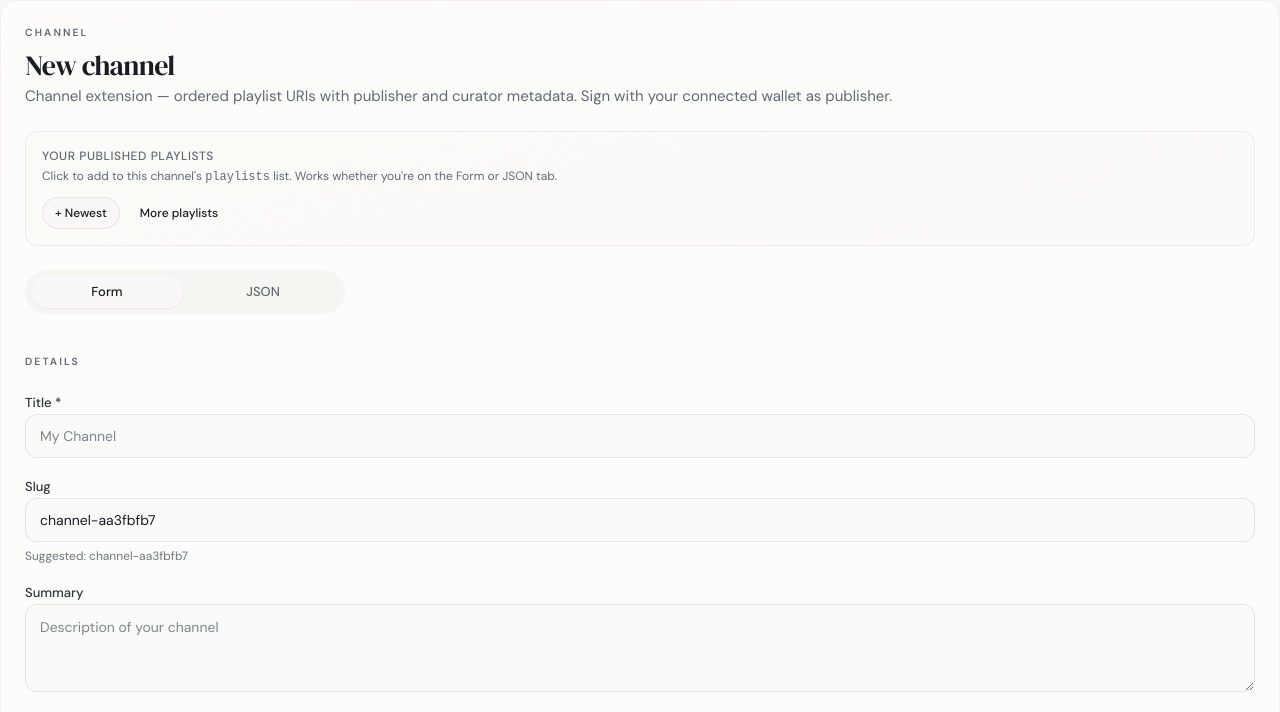
Test case: ChannelForm — publish flow › playlist picker pages through the feed with "More playlists"
The width and height of the screenshot is (1280, 712).
Click the button "More playlists": (179, 213) [128, 197, 230, 229]
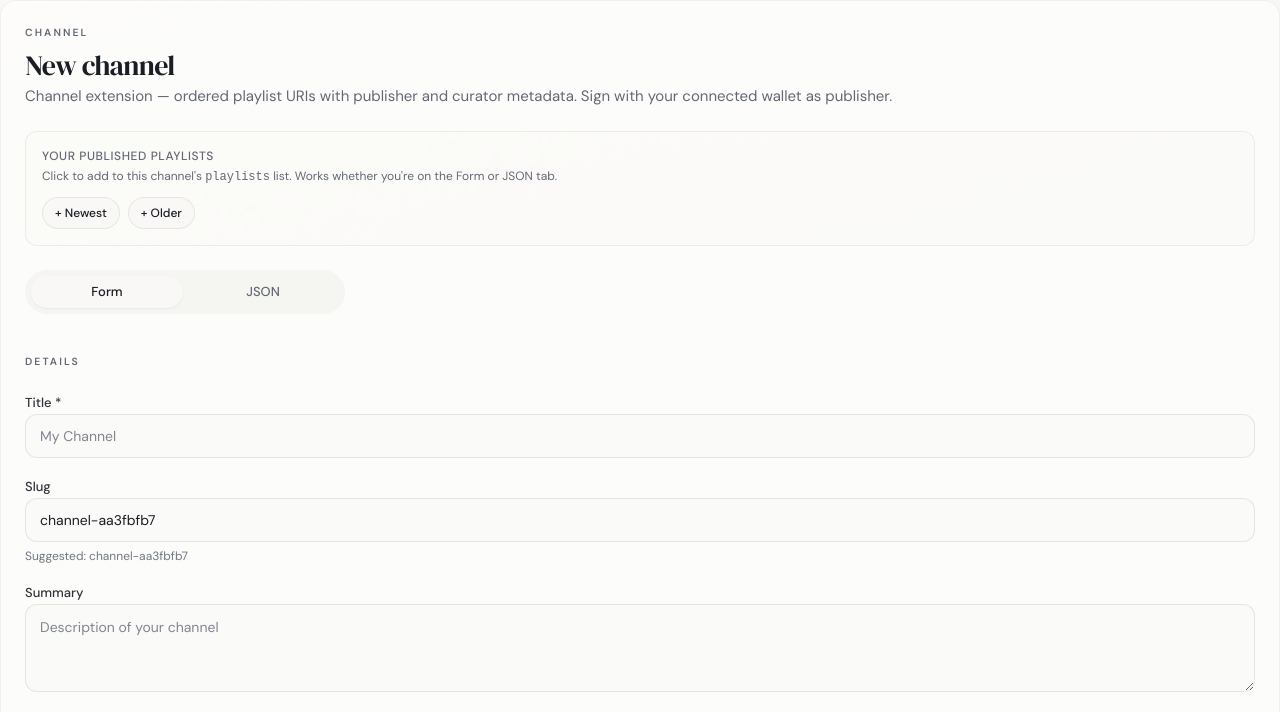
Check: the button "+ Older" is shown, box [128, 197, 195, 229]
Check: the button "More playlists" is gone
